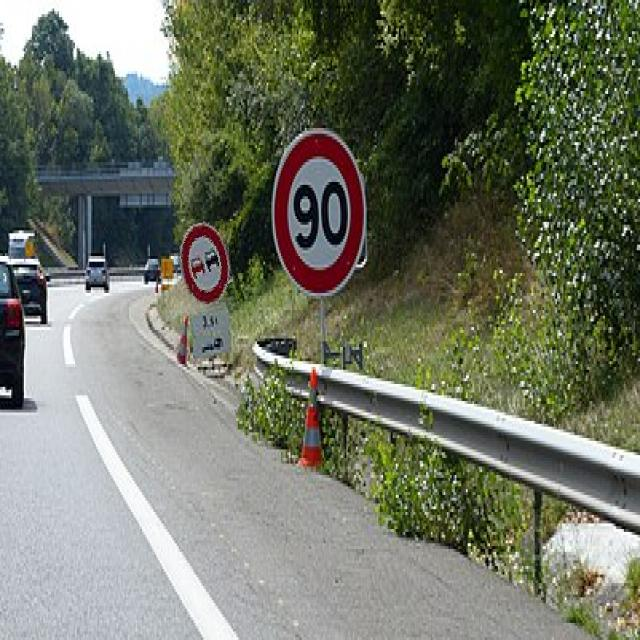no overtaking: (178, 221, 236, 313)
